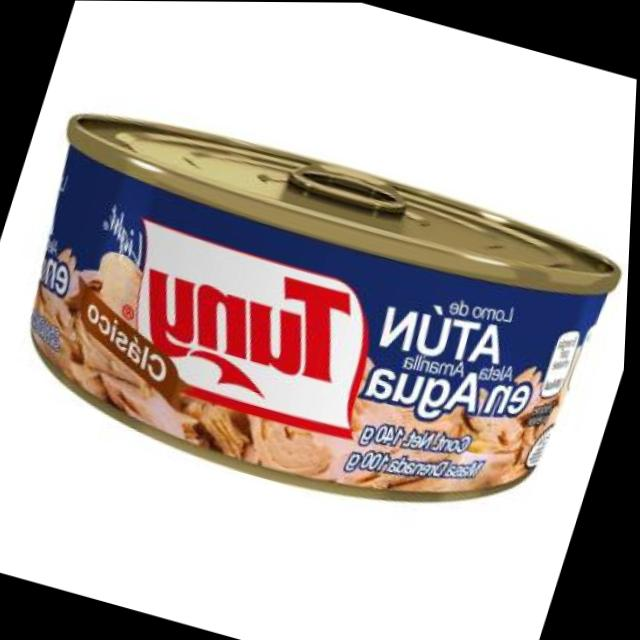Lata: (0, 90, 636, 560)
